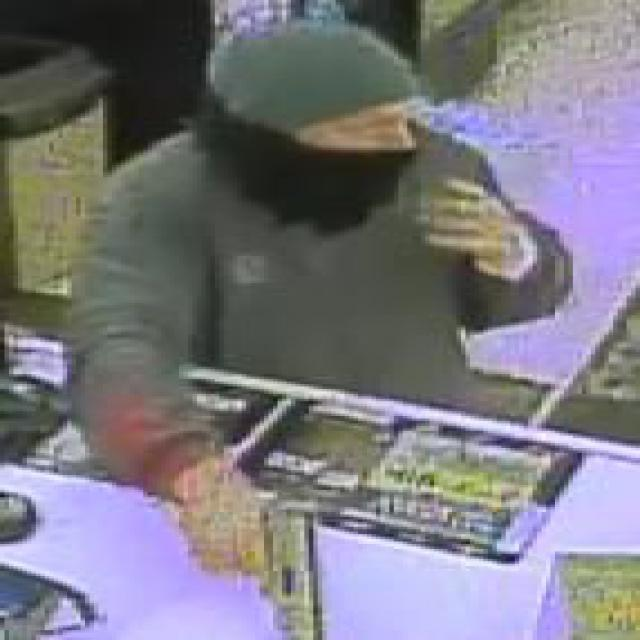Gun: (179, 502, 327, 638)
